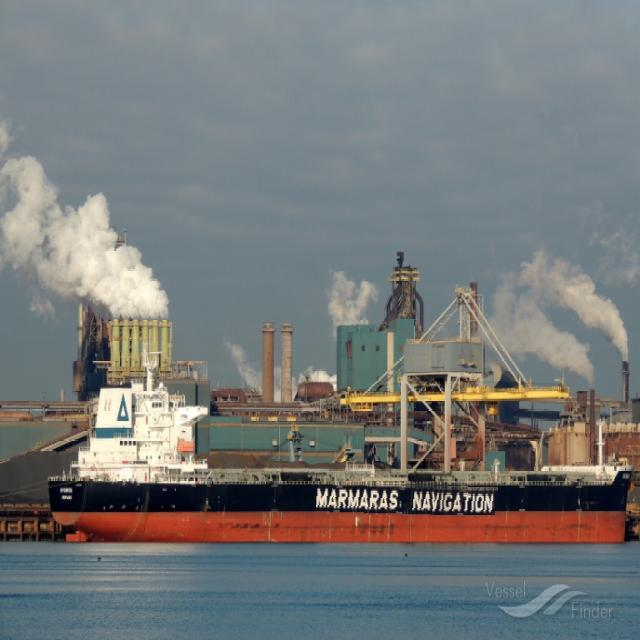OCR: (316, 482, 498, 515)
